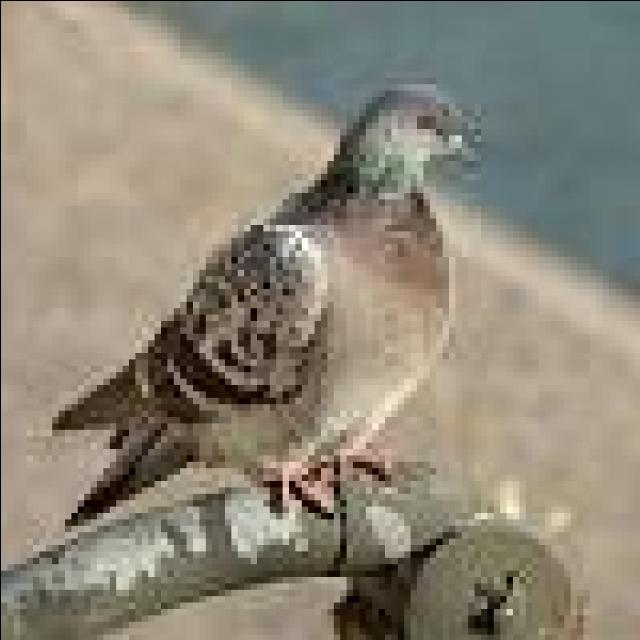pigeon: (60, 45, 493, 528)
